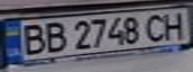2: (69, 17, 93, 52)
4: (106, 15, 127, 46)
7: (87, 16, 109, 48)
8: (121, 14, 145, 45)
B: (15, 21, 51, 56), (39, 20, 69, 54)
C: (139, 11, 172, 43)
H: (157, 9, 190, 40)
